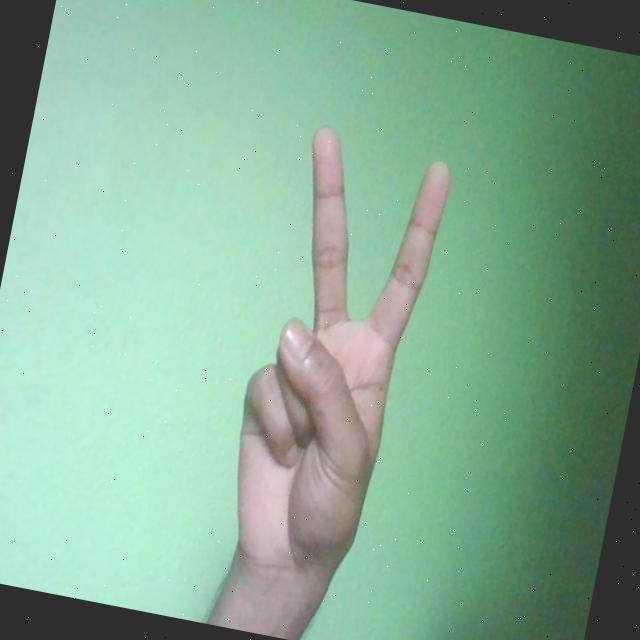Fist: (212, 119, 456, 596)
